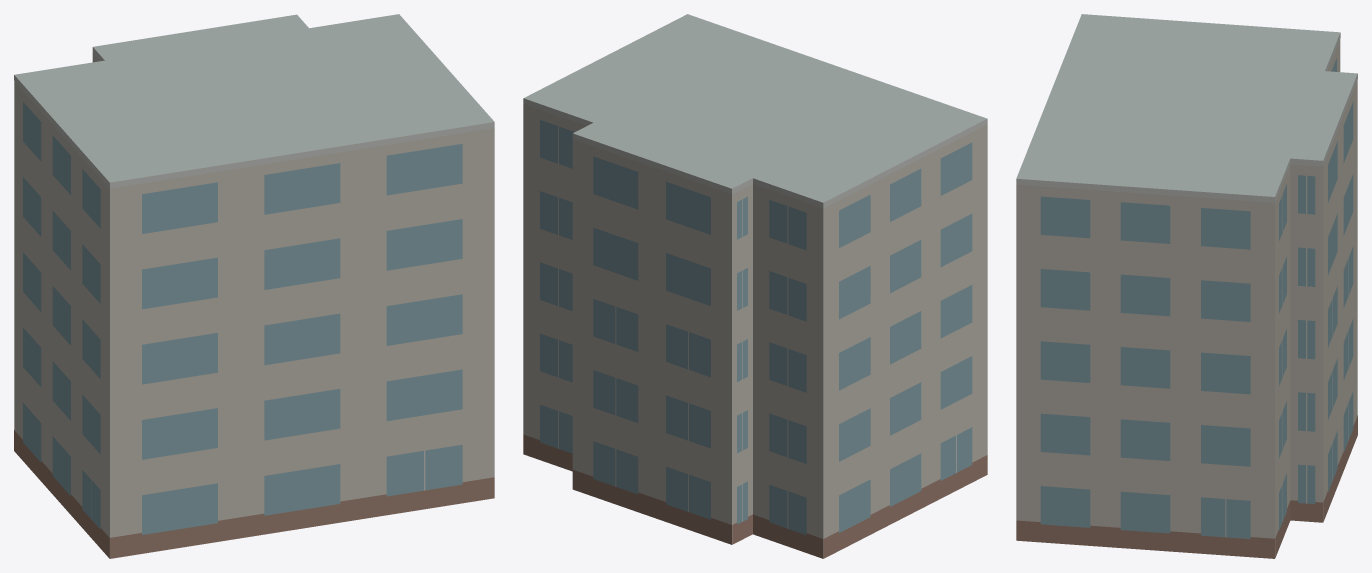
Rendered from survey-upis-32751238.glb.
3 views of the same model, side by side, from view 1: azimuth 30°, elevation 25°; view 2: azimuth 150°, elevation 25°; view 3: azimuth 270°, elevation 25° (orthographic). The views are drawn at different scales.
Visible parts, largest first — view 1: survey-upis-32751238.tmp; view 2: survey-upis-32751238.tmp; view 3: survey-upis-32751238.tmp.
Part boxes in pixels (x1,y1,x2,y2): survey-upis-32751238.tmp: [14, 14, 494, 558]; survey-upis-32751238.tmp: [523, 14, 987, 558]; survey-upis-32751238.tmp: [1016, 14, 1357, 558].
Size of the model in its own units: 16.55 by 15.25 by 13.05.
